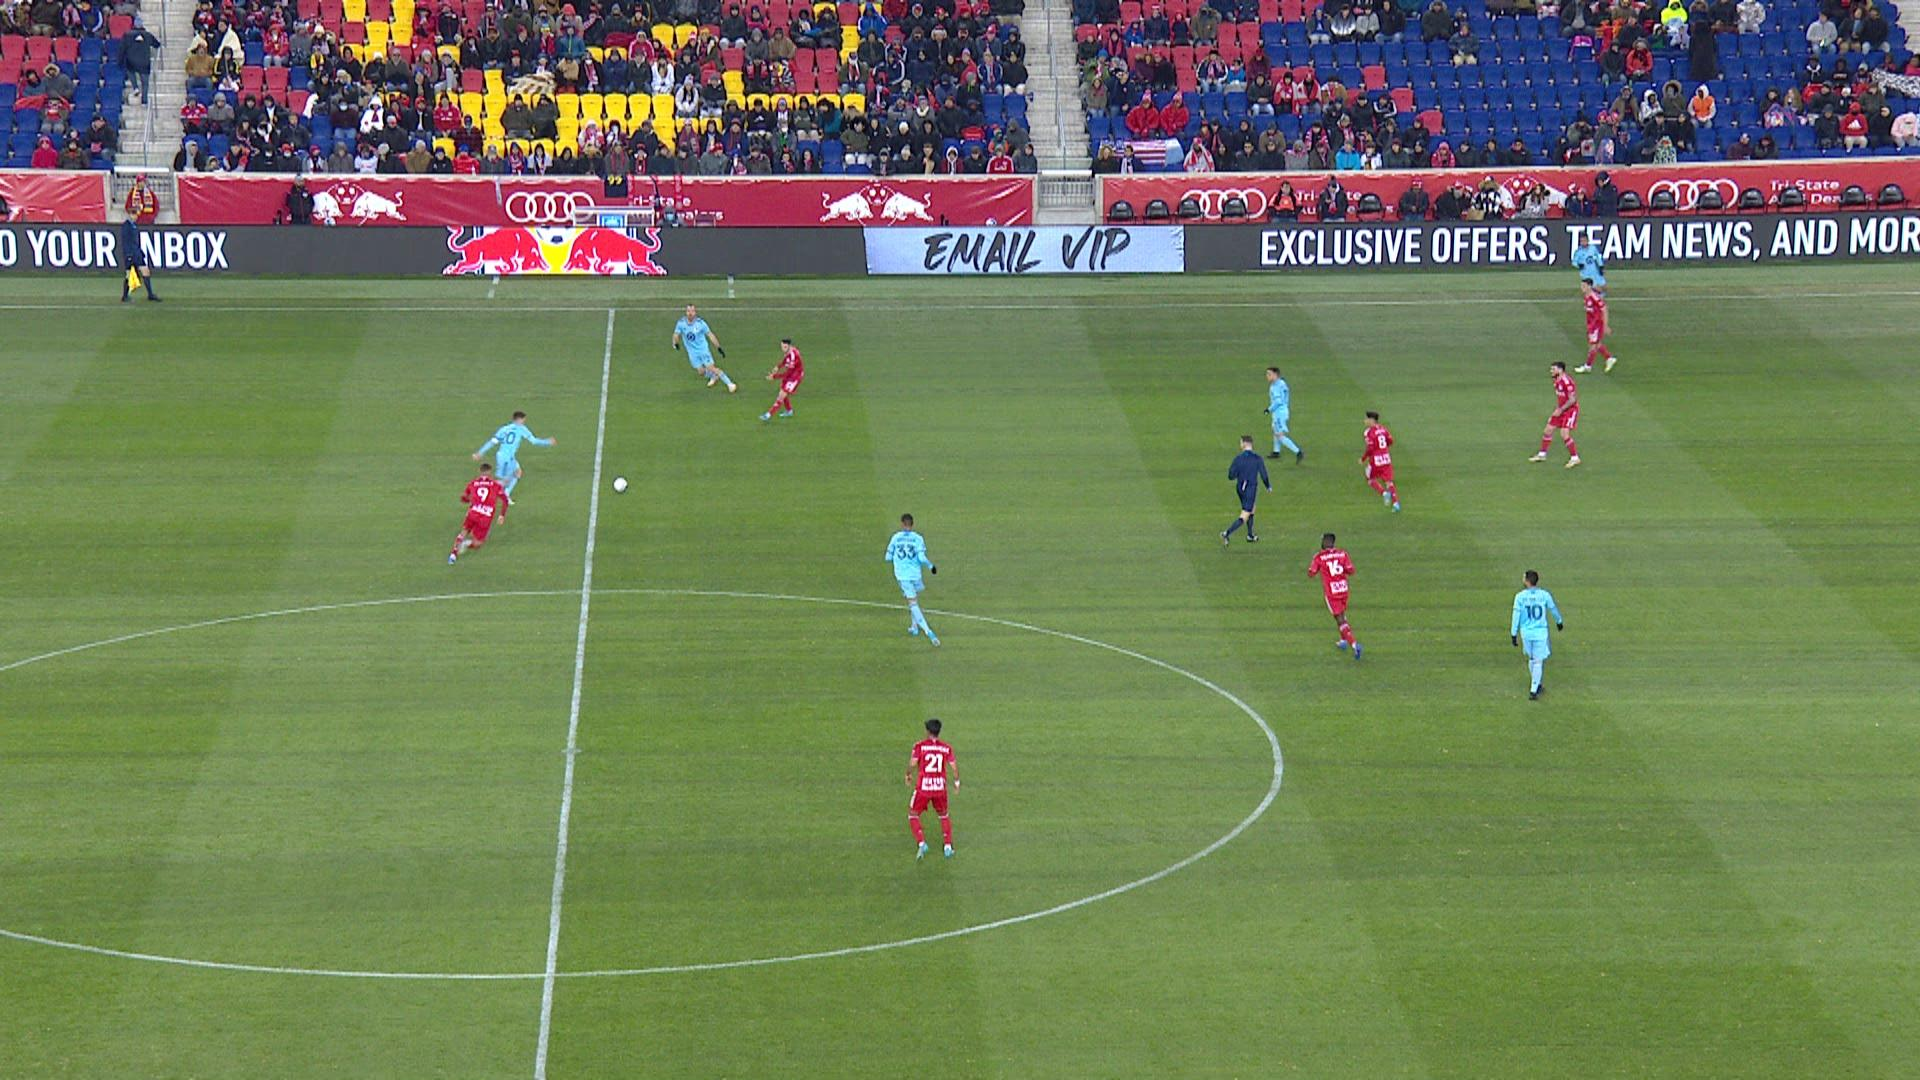football: (612, 476, 629, 494)
